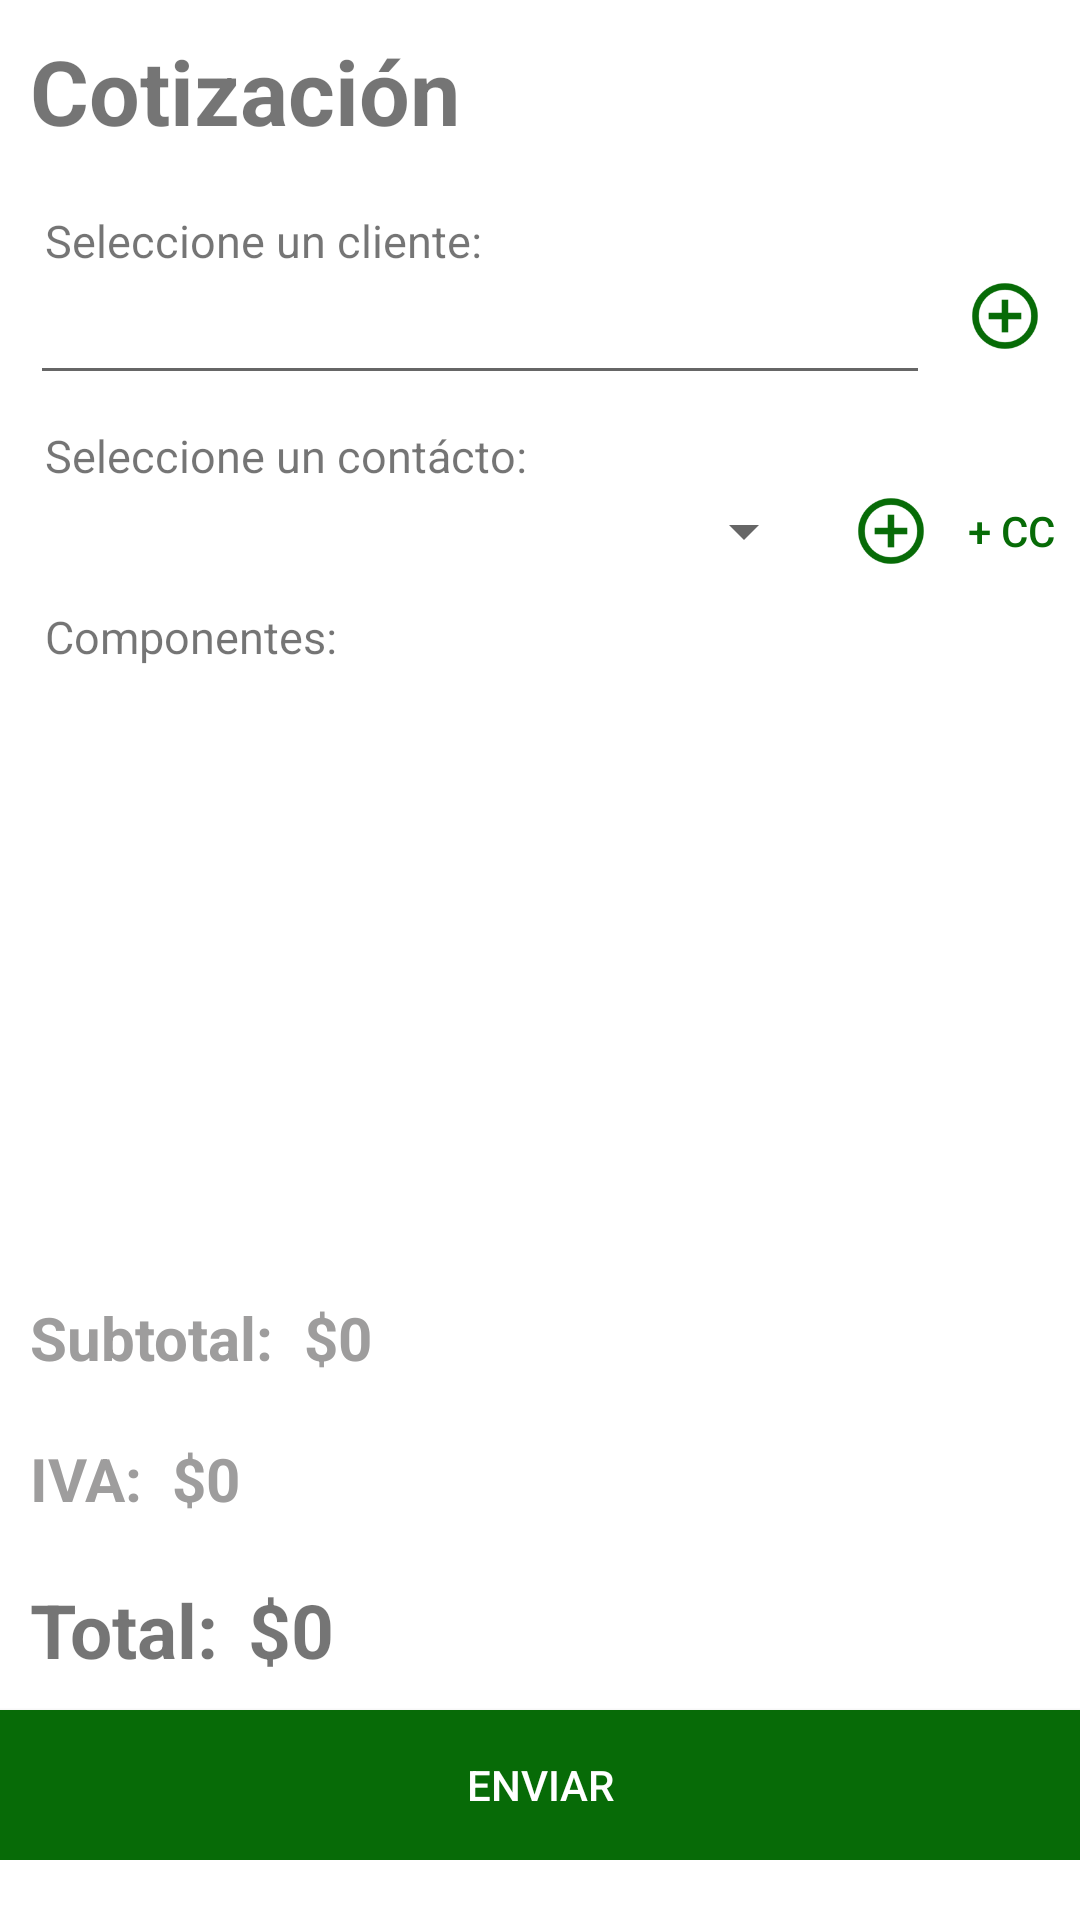

Locate icon controls on the screen. Image size 1080px×1920px, boxes as (left=x1, top=y1, right=x2, bottom=y2).
crear: (left=972, top=283, right=1038, bottom=349), (left=858, top=498, right=924, bottom=564)
